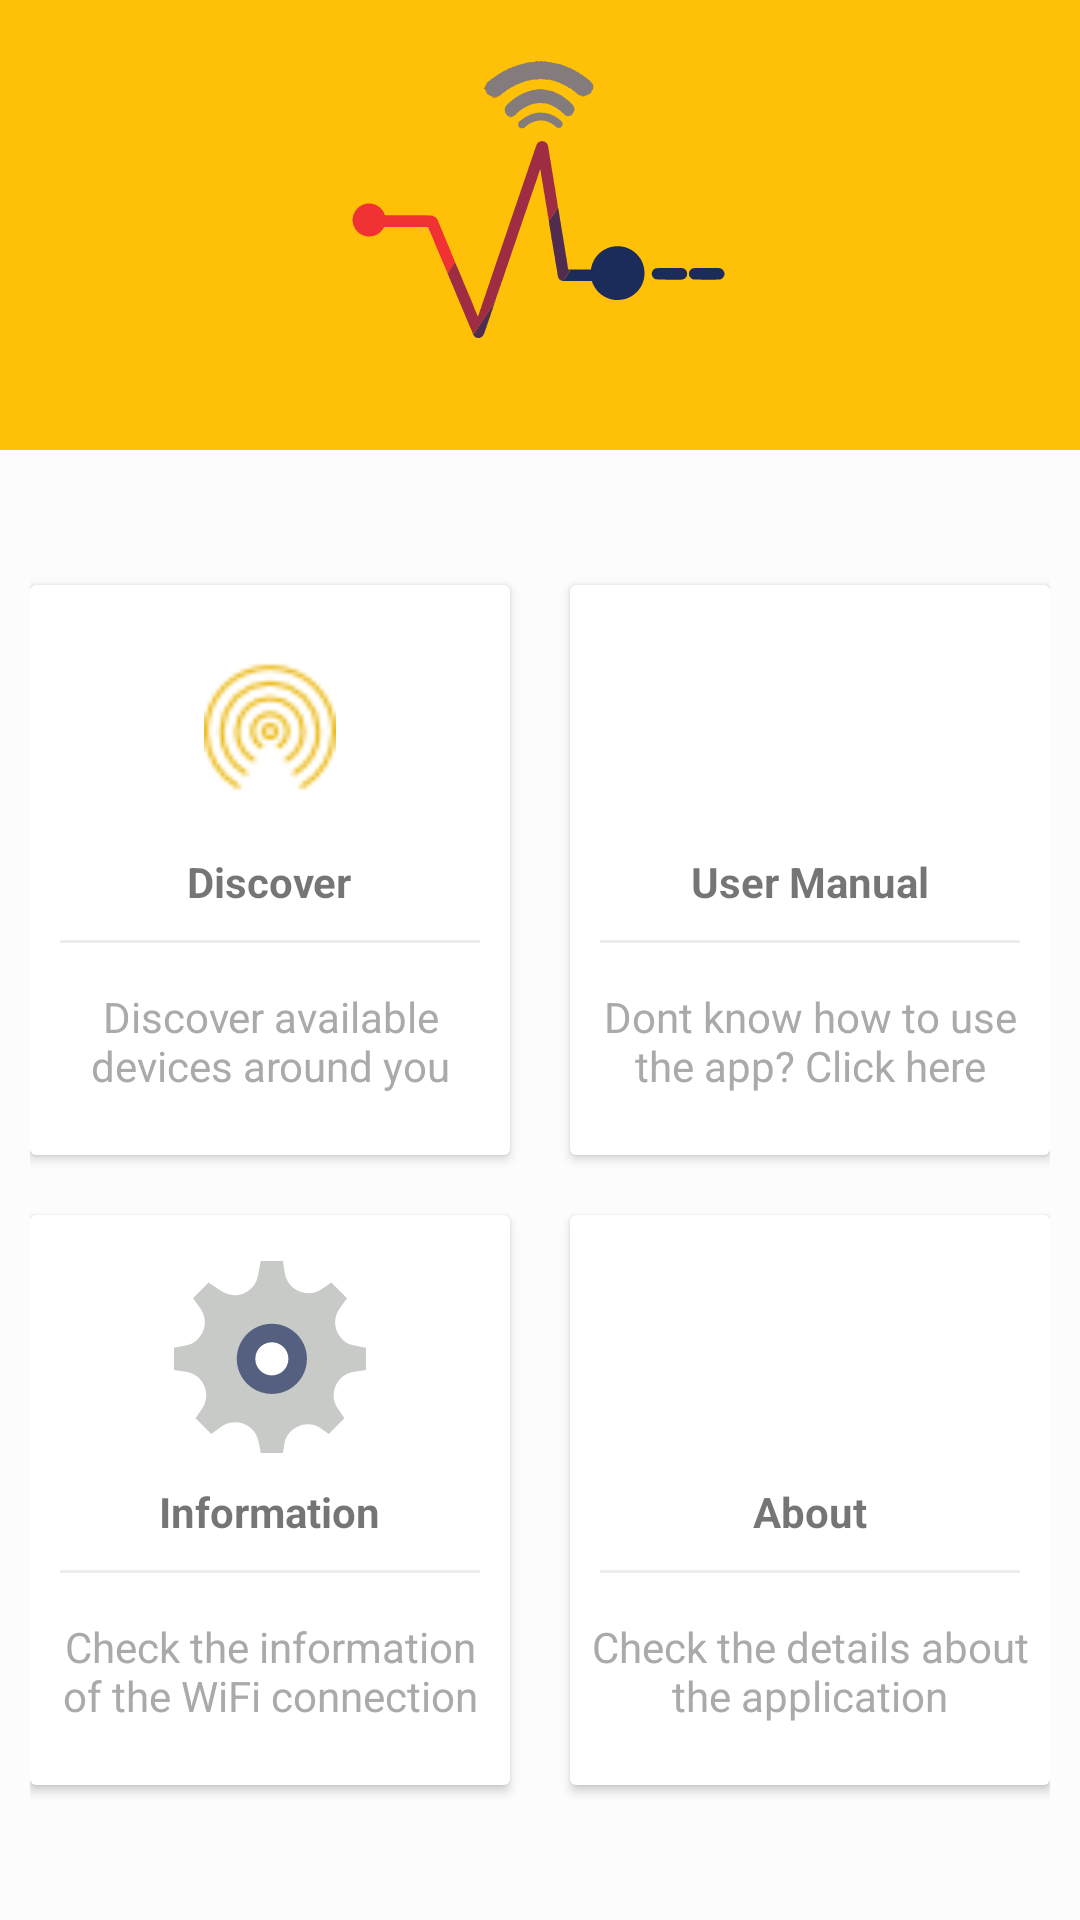

Icons on this 1080×1920 Android screen, each with its box as region(x1, y1, x2, y2):
settings: region(174, 1261, 366, 1453)
wireless: region(204, 664, 336, 790)
